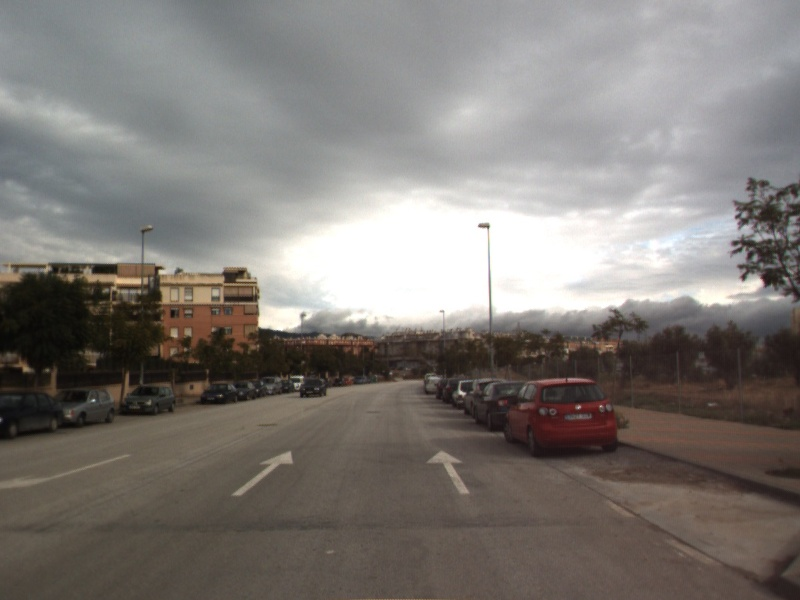STRAIGHT: (230, 449, 296, 498), (424, 448, 472, 496)
